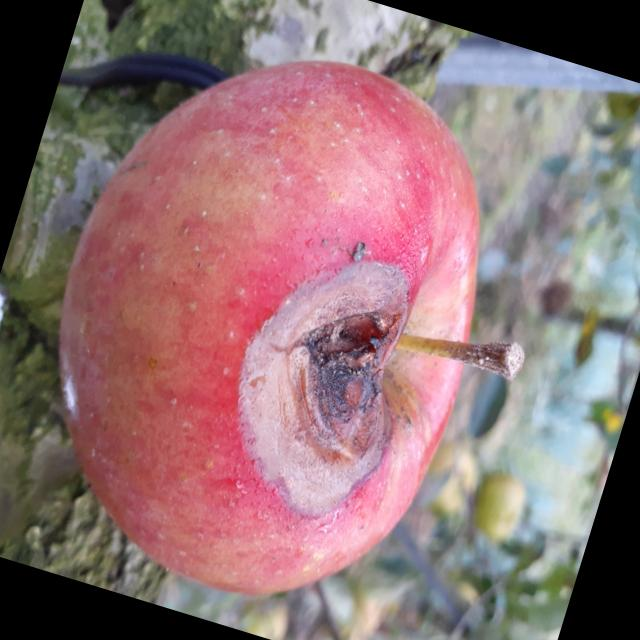rotten: (1, 1, 554, 640)
